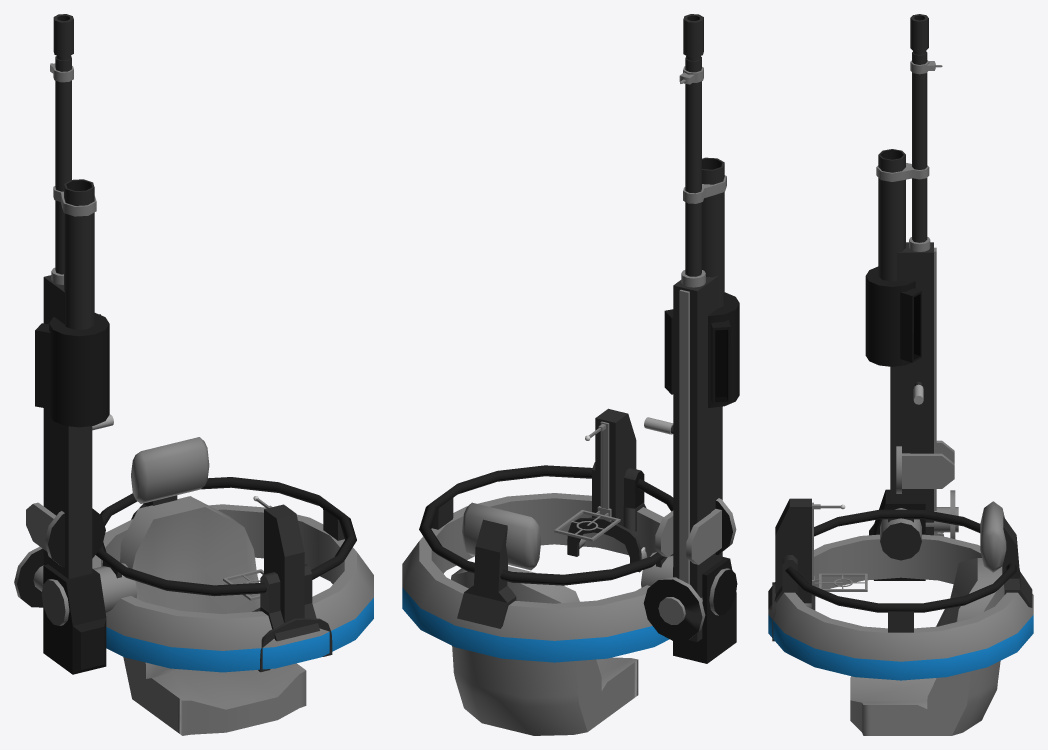
The model's file is GunRocketTurret.fbx.
3 renders of one model, left to right at view 1: azimuth 30°, elevation 25°; view 2: azimuth 150°, elevation 25°; view 3: azimuth 270°, elevation 25°, orthographic. The views are drawn at different scales.
Parts seen in each view (by area): view 1: TurretBase, TurretGun, TurretSight, TurretGunPivot, TurretPitchArm; view 2: TurretBase, TurretGun, TurretSight, TurretPitchArm, TurretGunPivot; view 3: TurretBase, TurretGun, TurretSight, TurretGunPivot, TurretPitchArm.
Part boxes in pixels (x1,y1,x2,y2): TurretBase: [41, 437, 373, 735]; TurretGun: [35, 14, 113, 674]; TurretSight: [223, 496, 332, 672]; TurretGunPivot: [26, 502, 105, 567]; TurretPitchArm: [14, 546, 43, 607]; TurretBase: [402, 462, 737, 735]; TurretGun: [644, 14, 739, 663]; TurretSight: [554, 408, 646, 572]; TurretPitchArm: [643, 577, 705, 640]; TurretGunPivot: [655, 498, 736, 564]; TurretBase: [768, 501, 1033, 735]; TurretGun: [865, 14, 943, 580]; TurretSight: [772, 498, 867, 641]; TurretGunPivot: [896, 440, 954, 493]; TurretPitchArm: [925, 490, 958, 538].
Bounding box in the file's own units: 121 × 264 × 101.
Materials: 1 (1 with a texture image).
